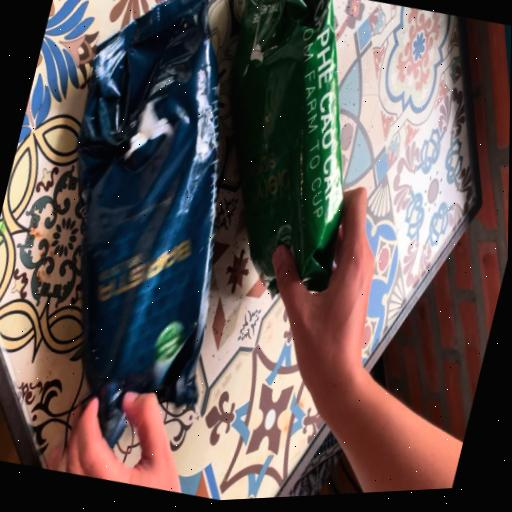cafe_hat: (77, 0, 218, 446)
cafe_xay: (231, 0, 342, 291)
